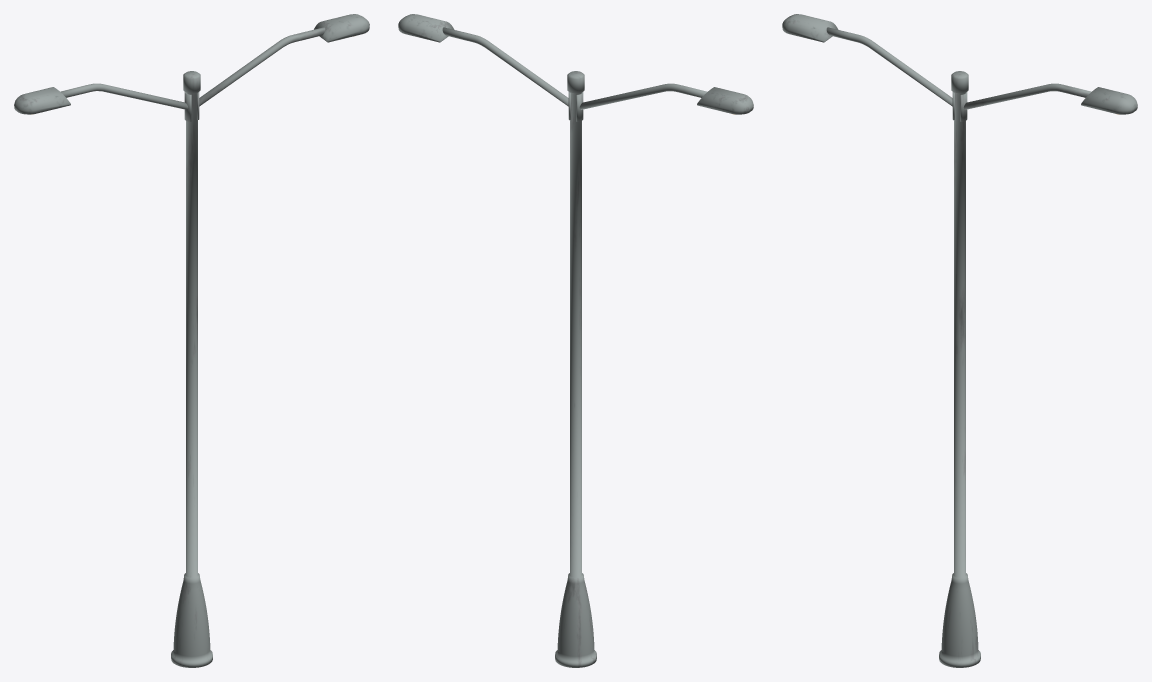
The model's file is m_street_light_02.glb.
3 views of the same model, side by side, from view 1: azimuth 30°, elevation 25°; view 2: azimuth 150°, elevation 25°; view 3: azimuth 330°, elevation 25° (orthographic).
Visible parts, largest first — view 1: Street Light 2; view 2: Street Light 2; view 3: Street Light 2.
Part boxes in pixels (x1,y1,x2,y2): Street Light 2: (14,14,369,667); Street Light 2: (398,14,753,667); Street Light 2: (782,14,1137,667).
Size of the model in its own units: 3.46 by 5.68 by 0.3569.
2 materials, 2 textured.
